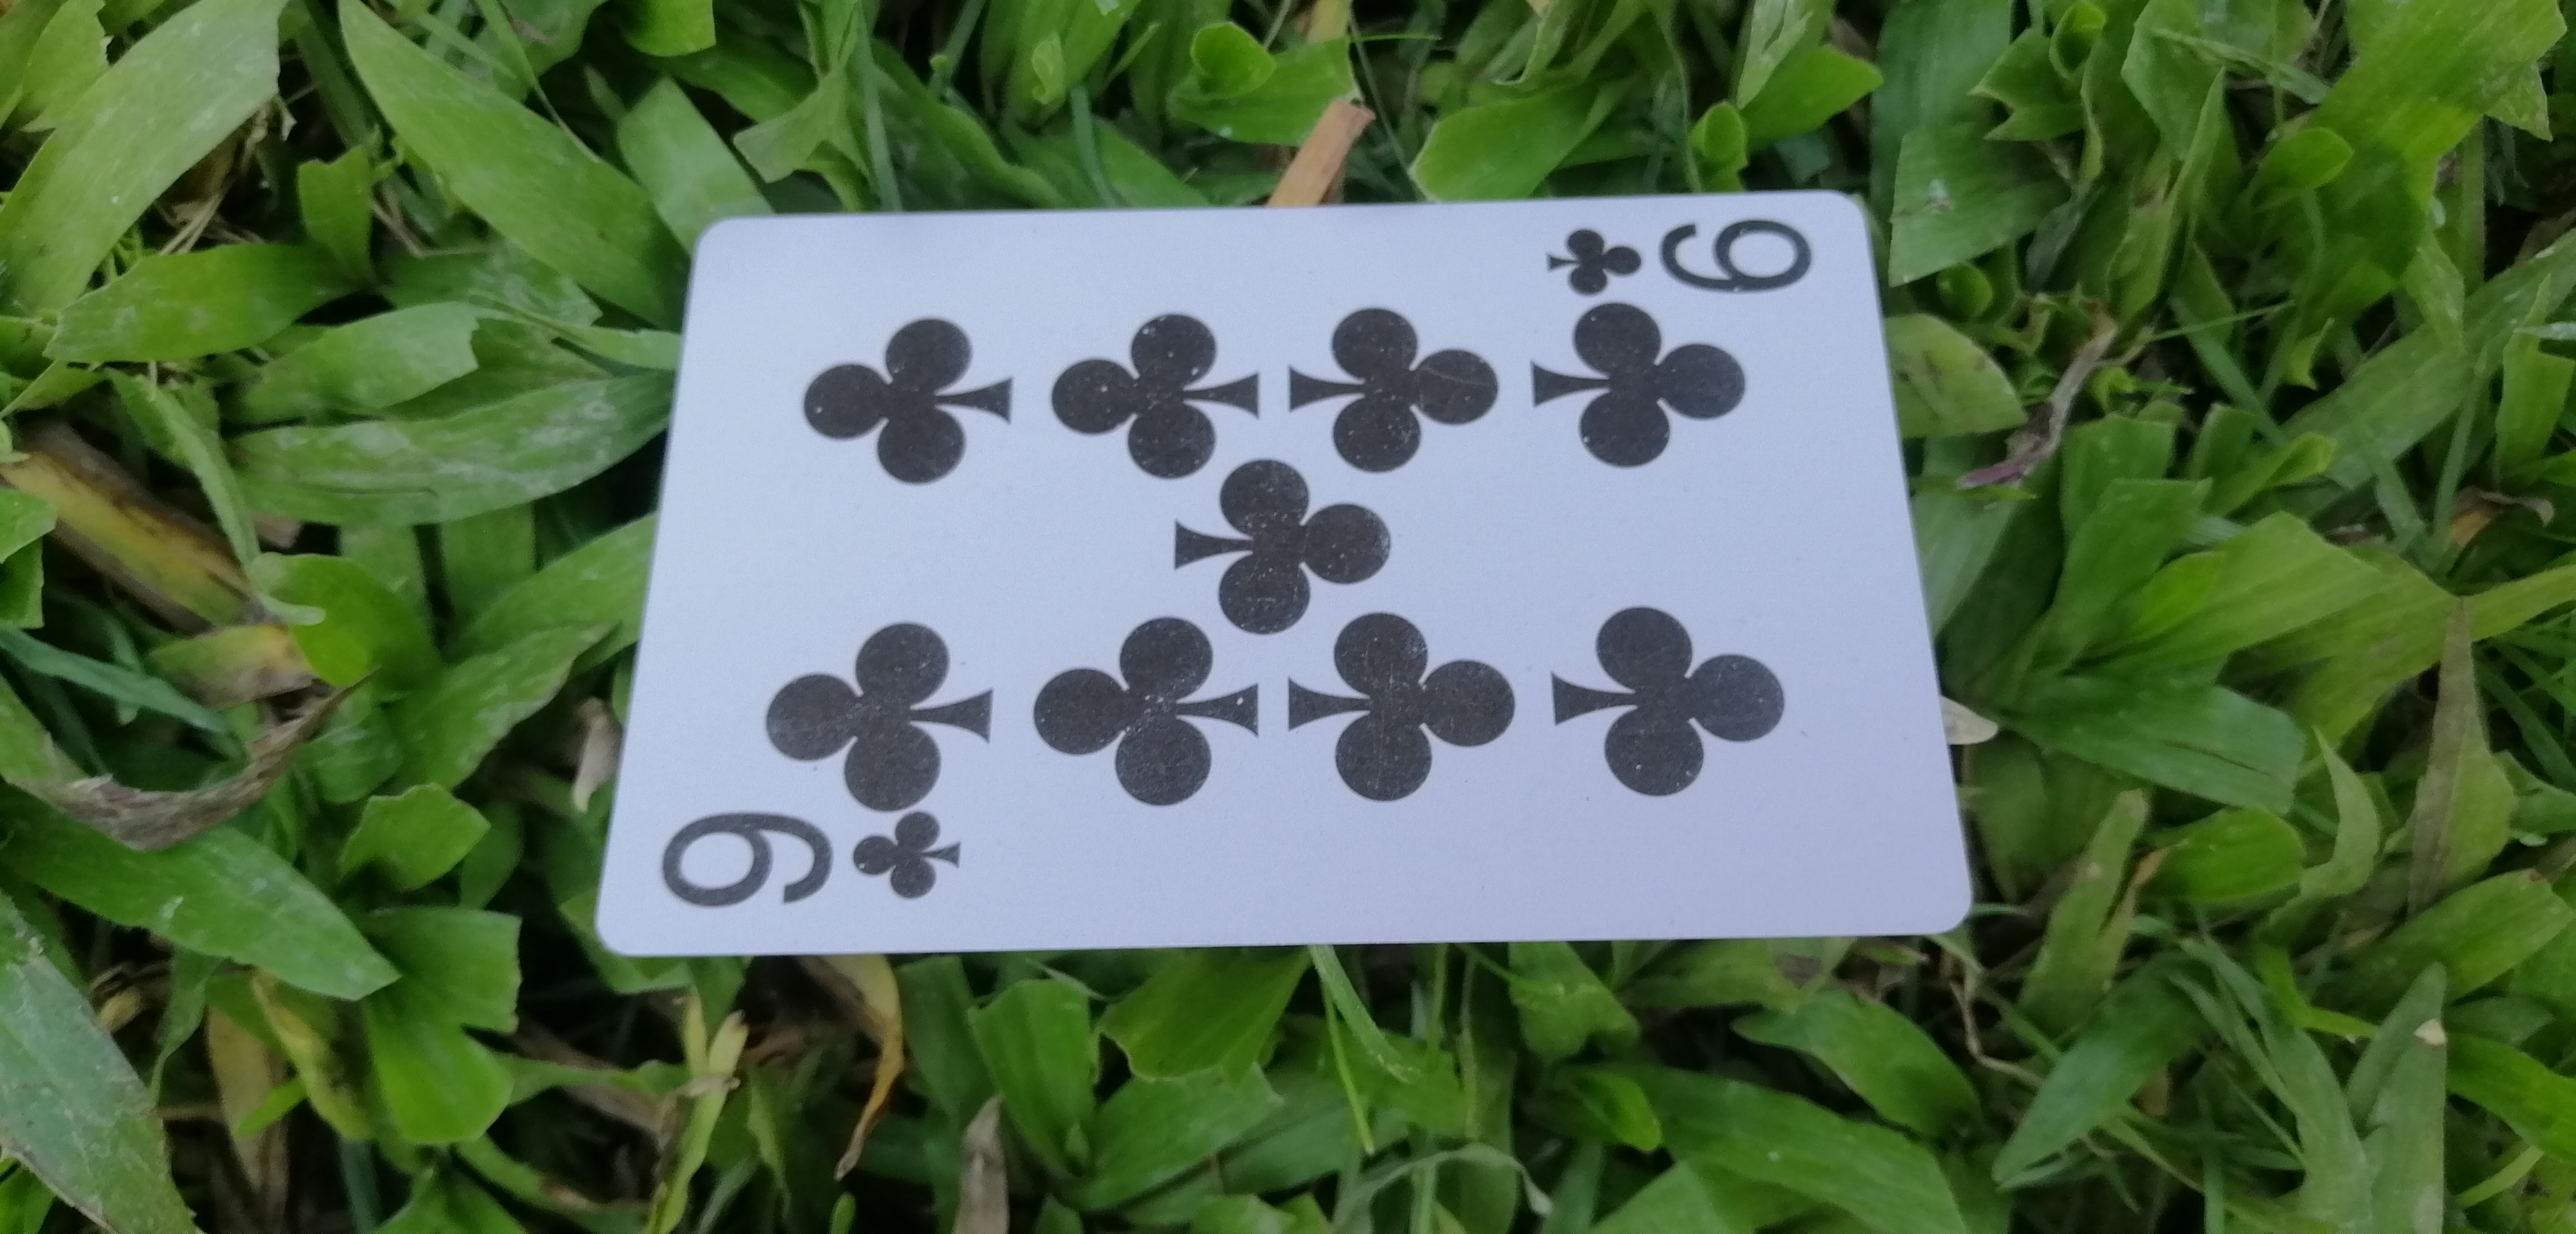nine: (593, 192, 1981, 965)
